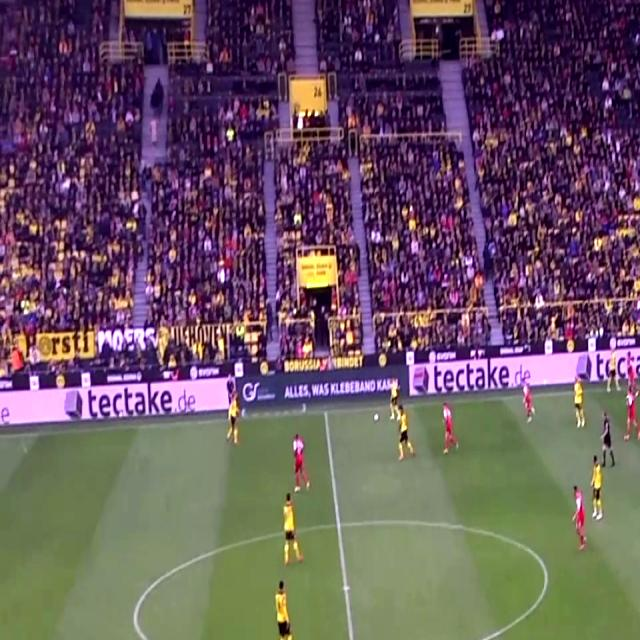ball: (371, 406, 380, 430)
referee: (601, 407, 620, 474)
soccer-player: (280, 488, 304, 574), (270, 569, 299, 640), (566, 476, 590, 559), (287, 427, 311, 503), (224, 374, 244, 451), (586, 449, 604, 525), (438, 395, 458, 460), (570, 367, 587, 433), (396, 403, 412, 464), (625, 386, 640, 446), (389, 369, 405, 425), (520, 374, 537, 424), (606, 342, 620, 388)
